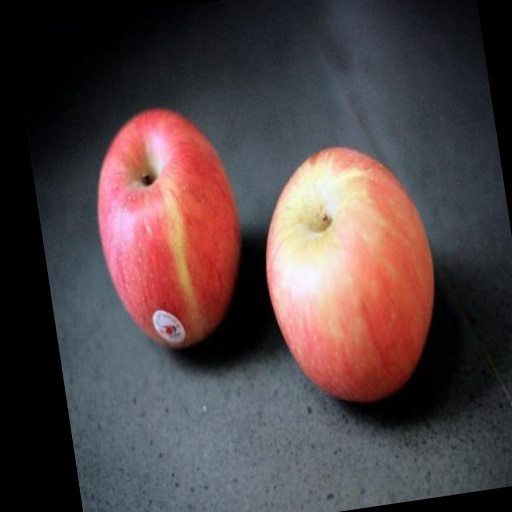fruit: (266, 148, 433, 402), (97, 110, 240, 347)
